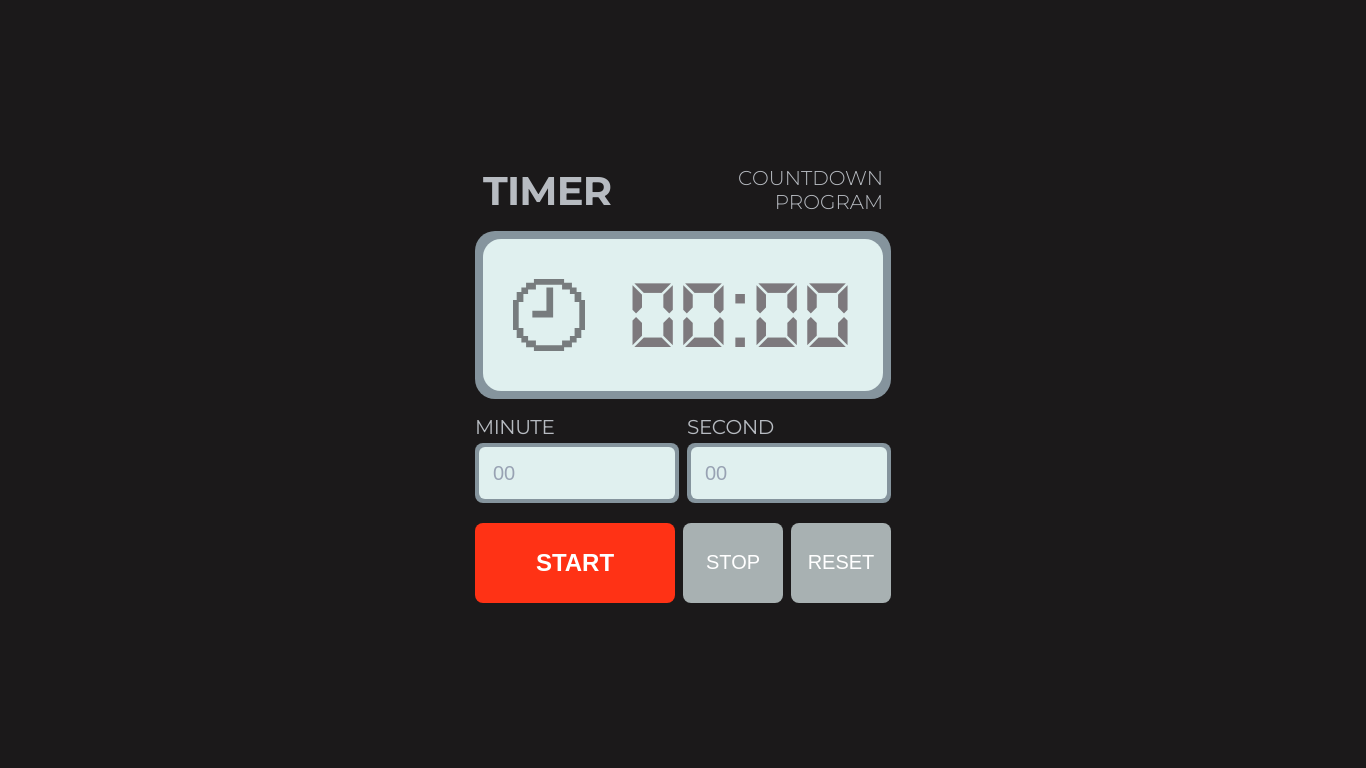
Scenario: 카운트다운 테스트 › 예외 테스트
Click the button "START": (575, 562) 475,522 -> 675,602
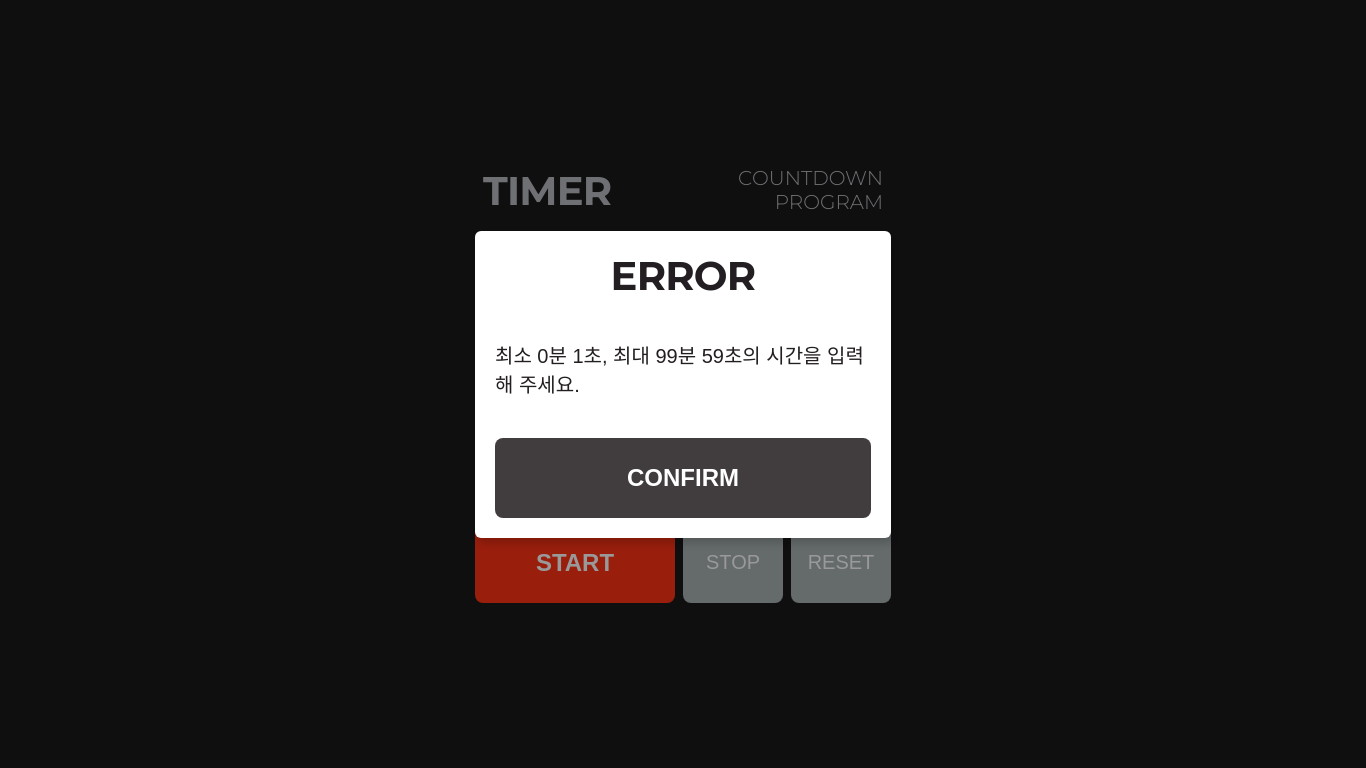
Expected: the heading "최소 0분 1초, 최대 99분 59초의 시간을 입력해 주세요." is shown, 495,340 -> 871,398
Click the button "CONFIRM": (683, 478) 495,438 -> 871,518
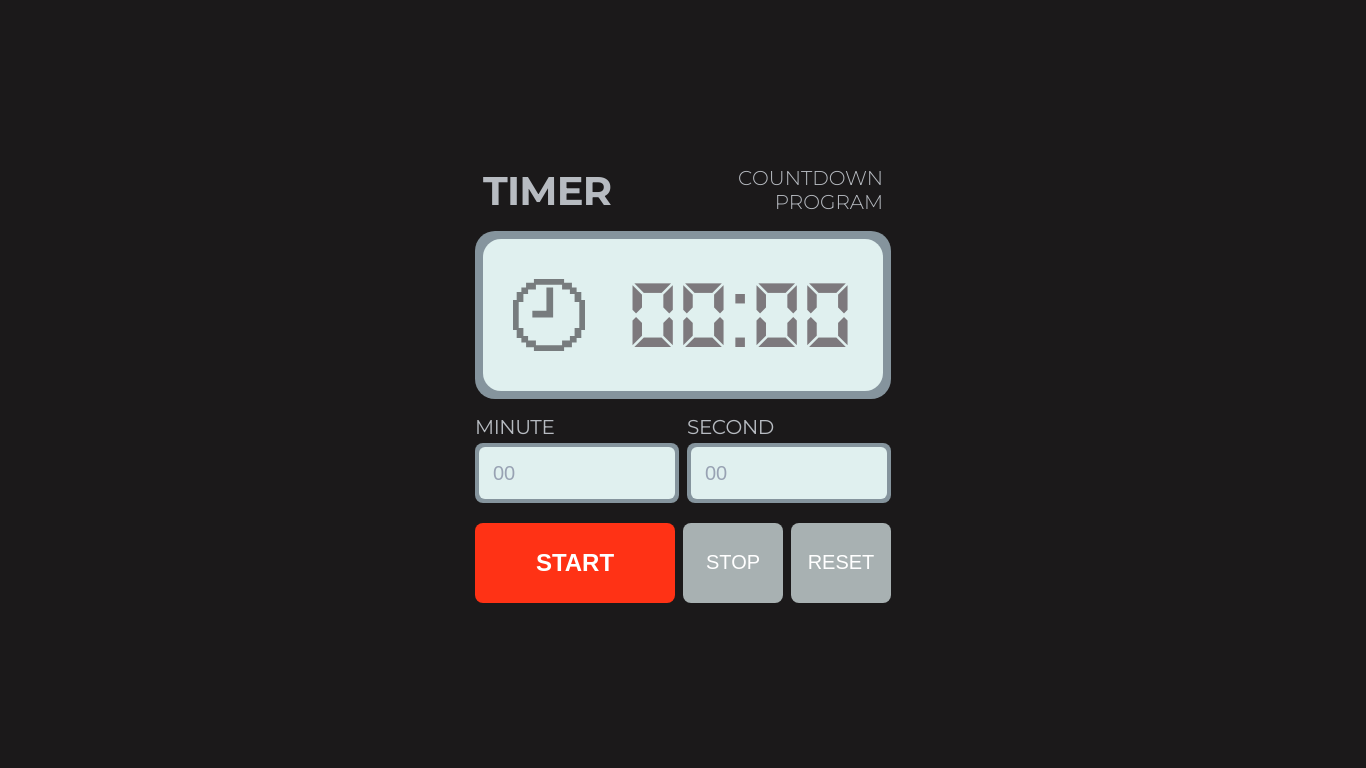
In the number field labelled "SECOND": (789, 472) 703,460 -> 875,484, type "-7"
Click the button "START": (575, 562) 475,522 -> 675,602
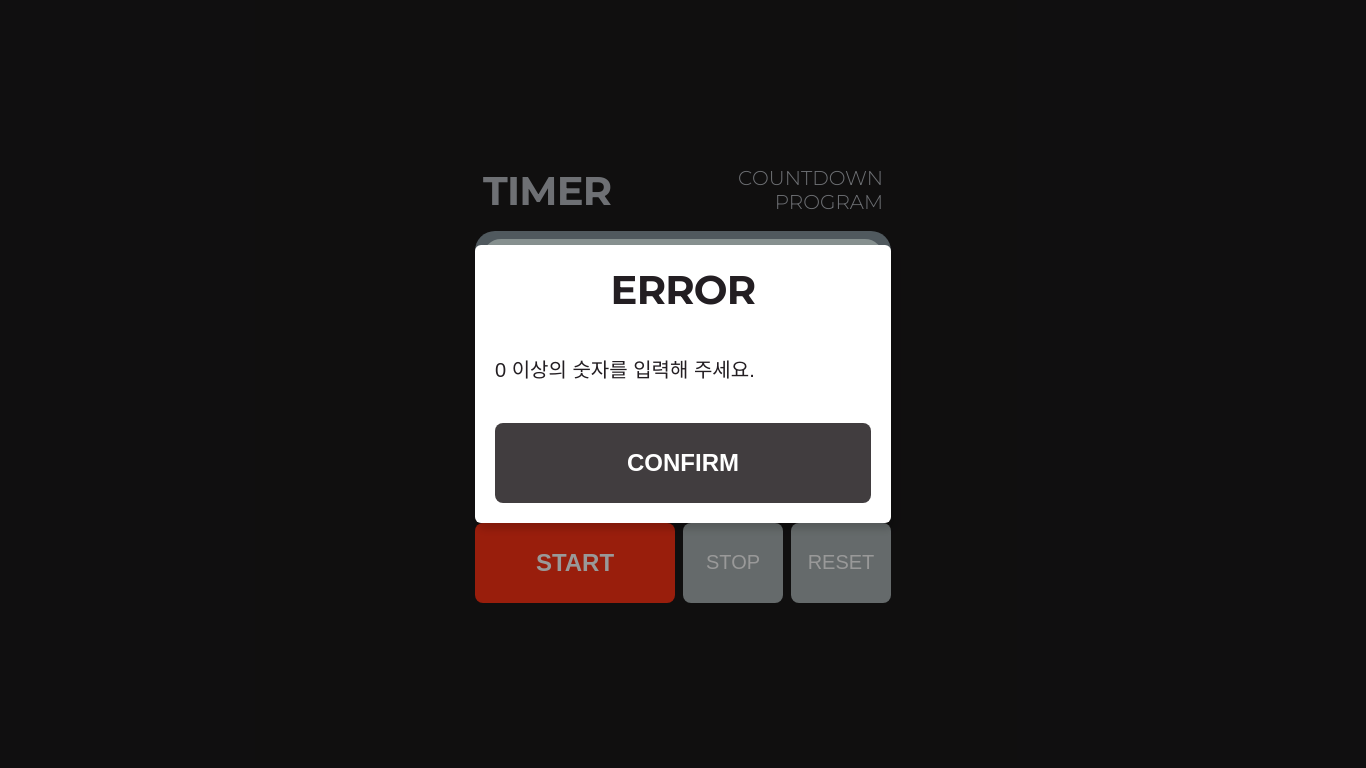
Expected: the heading "0 이상의 숫자를 입력해 주세요." is shown, 495,359 -> 755,381
Click the button "CONFIRM": (683, 463) 495,423 -> 871,503
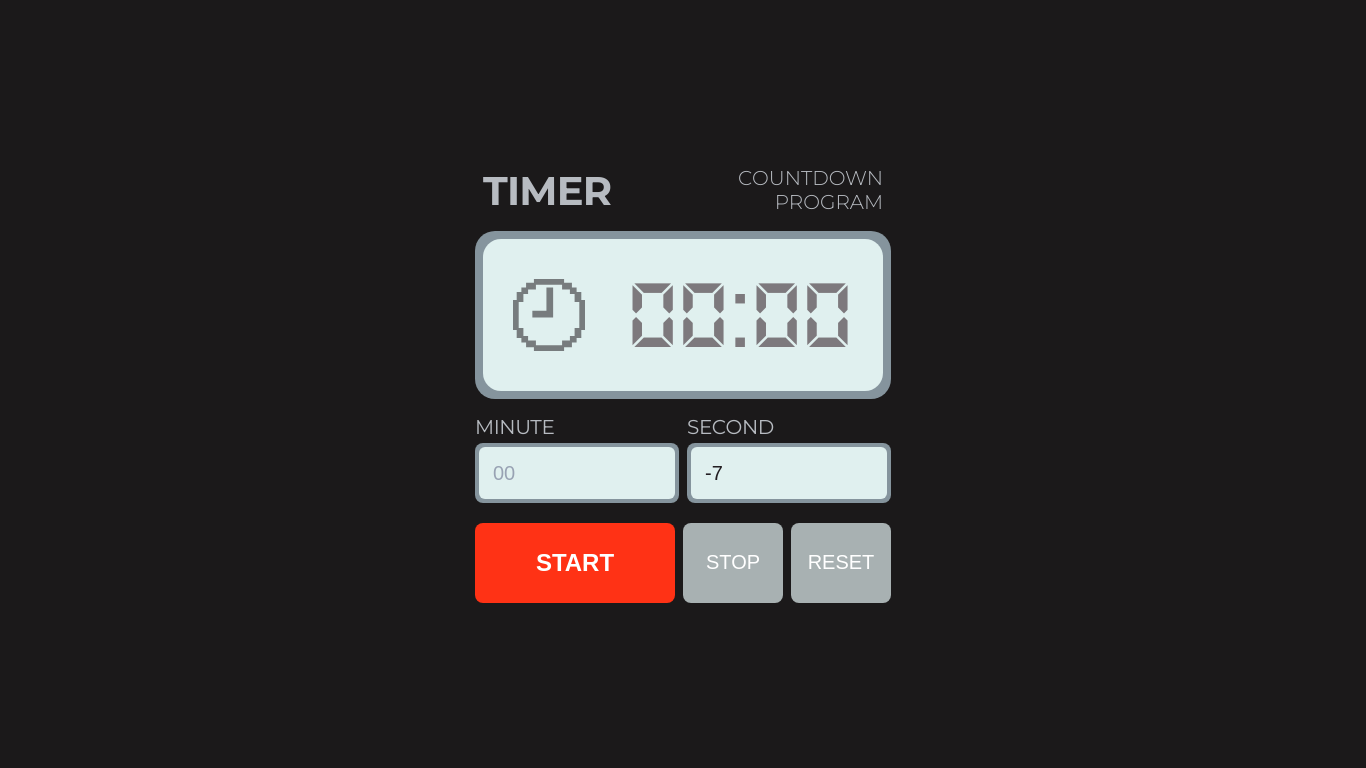
Click the button "RESET": (841, 562) 791,522 -> 891,602
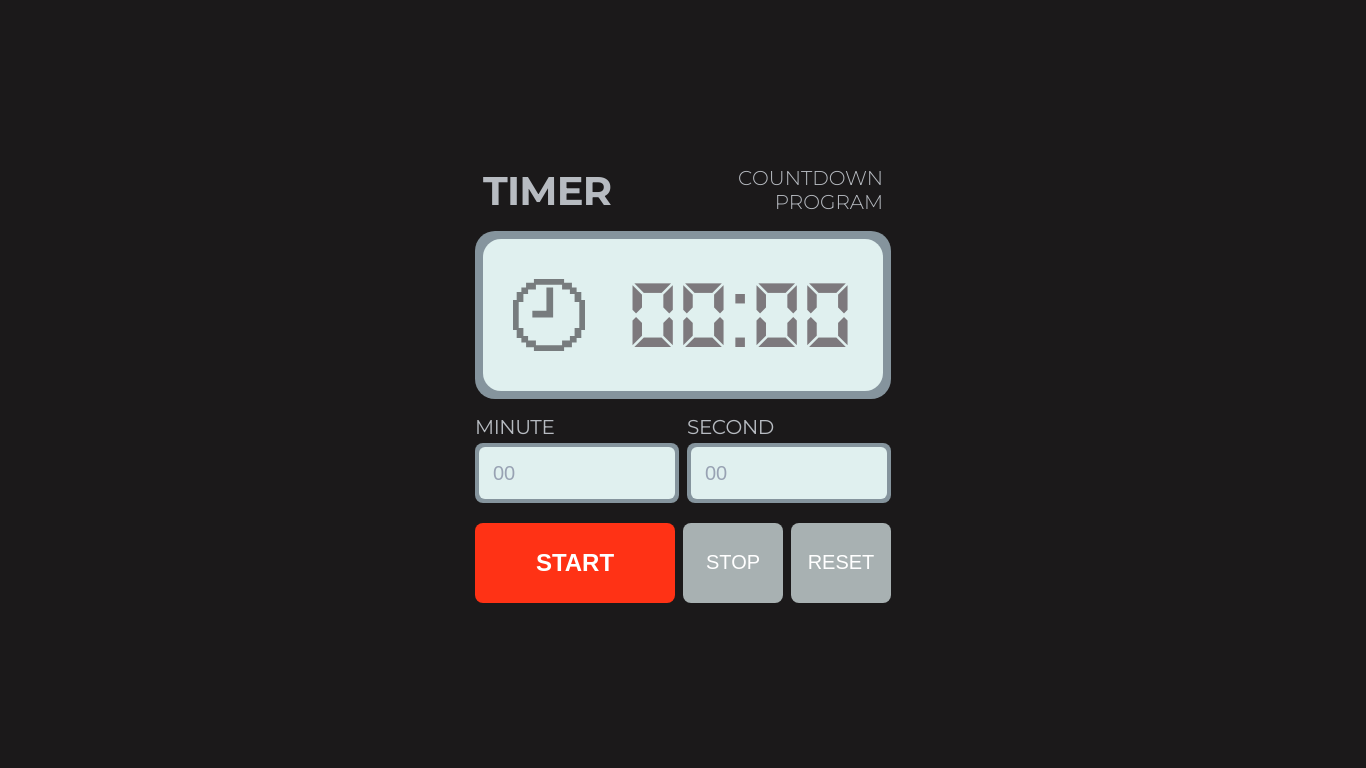
In the number field labelled "MINUTE": (577, 472) 491,460 -> 663,484, type "100"
Click the button "START": (575, 562) 475,522 -> 675,602
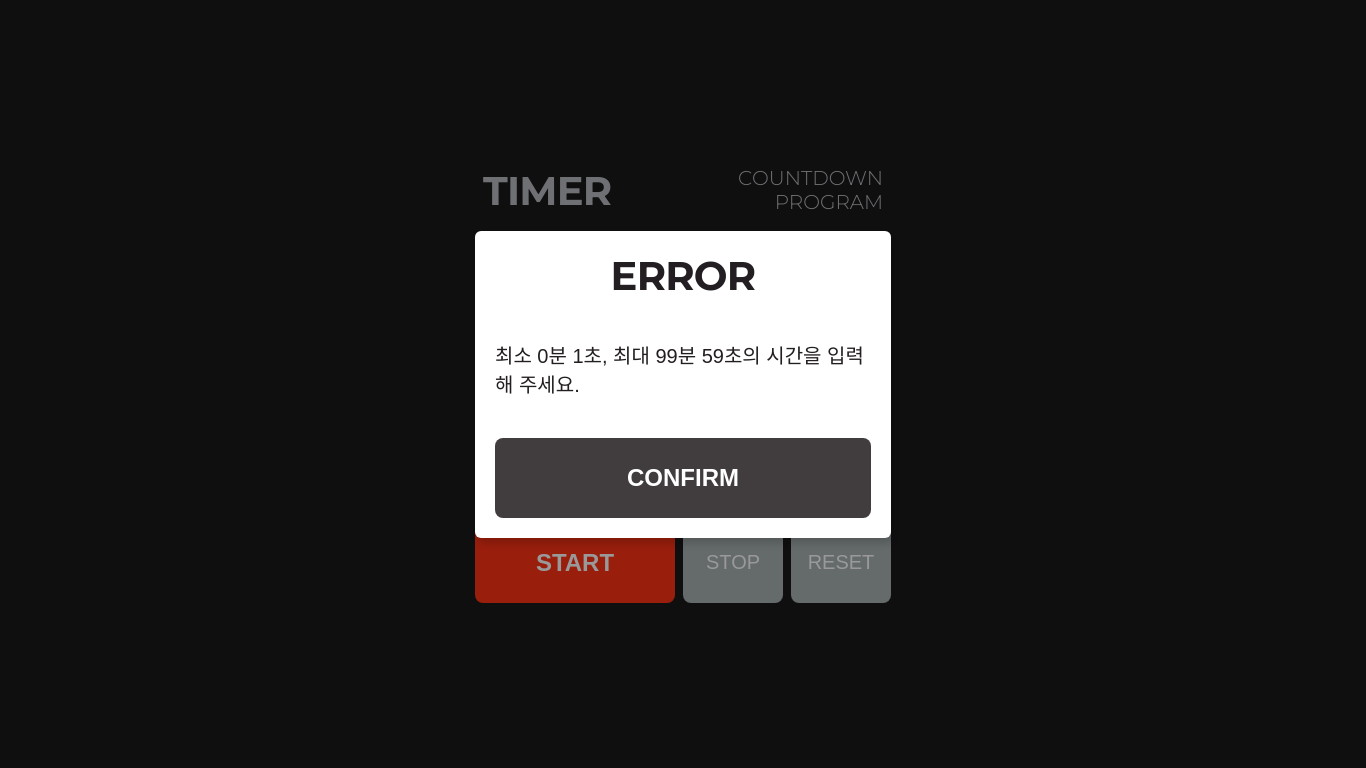
Expected: the heading "최소 0분 1초, 최대 99분 59초의 시간을 입력해 주세요." is shown, 495,340 -> 871,398
